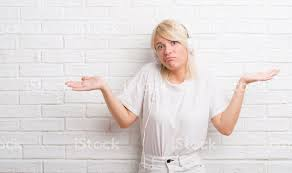white_female: (134, 28, 193, 90)
